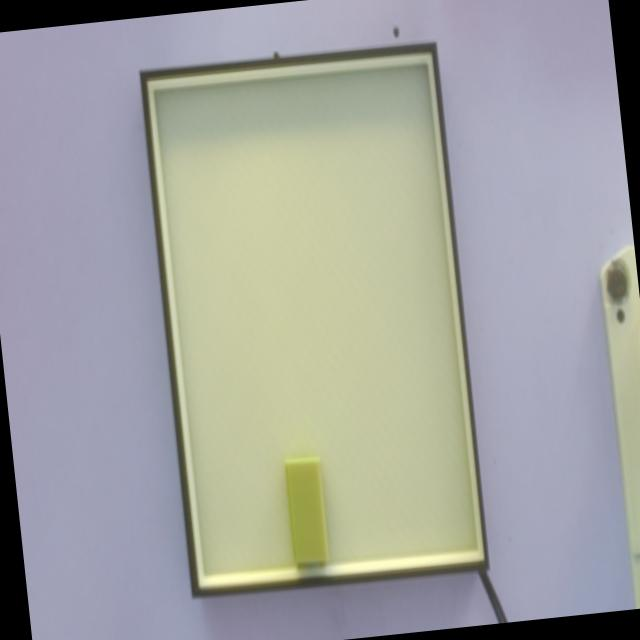bateria: (281, 454, 329, 568)
mesa: (138, 41, 489, 595)
